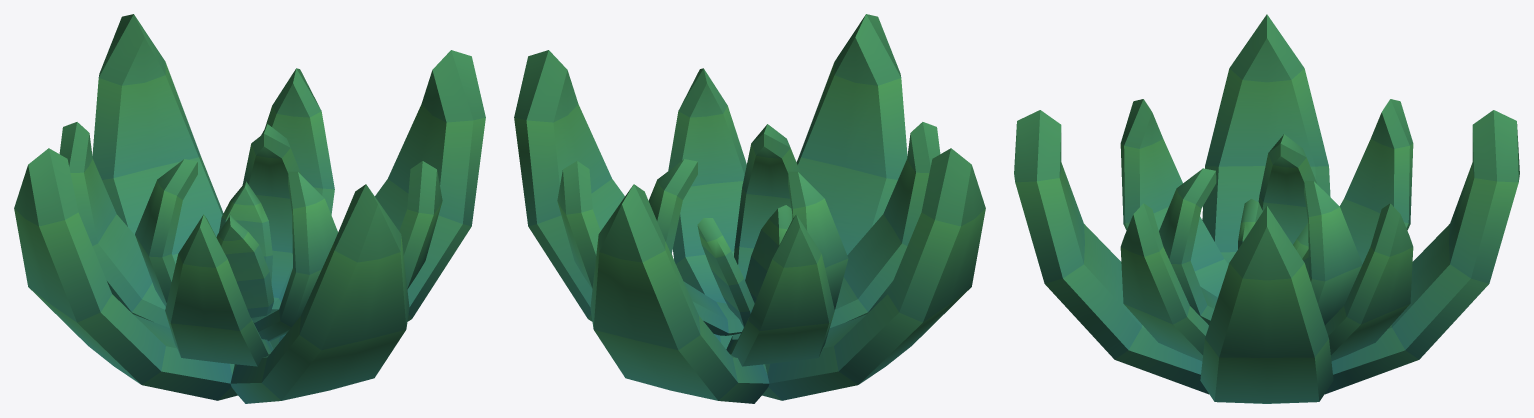
Rendered from succulent.glb.
The picture shows the model from 3 angles, left to right: view 1: azimuth 30°, elevation 25°; view 2: azimuth 150°, elevation 25°; view 3: azimuth 270°, elevation 25°; orthographic projection. The views are drawn at different scales.
Visible parts, largest first — view 1: succulent_D; view 2: succulent_D; view 3: succulent_D.
Boxes of the visible parts, <box> form: succulent_D: <box>14,14,485,403</box>; succulent_D: <box>514,14,985,403</box>; succulent_D: <box>1014,14,1519,403</box>.
Bounding box in the file's own units: 0.5527 × 0.3307 × 0.5527.
1 material, 1 textured.
